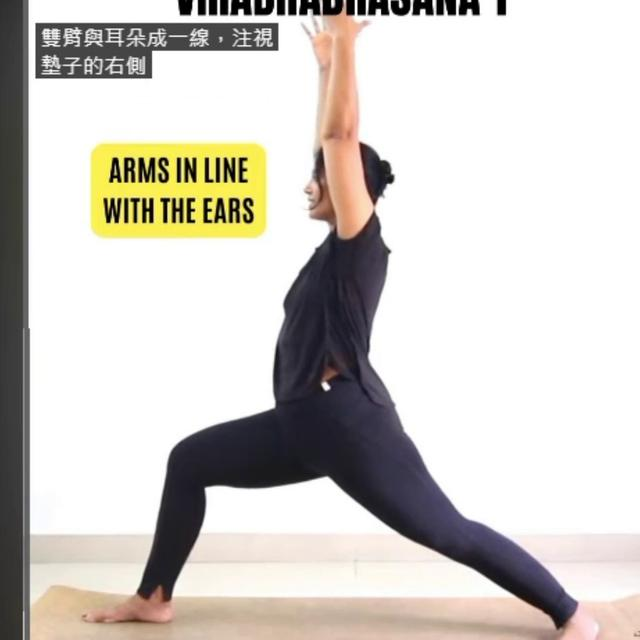Warrior_I: (80, 9, 604, 639)
